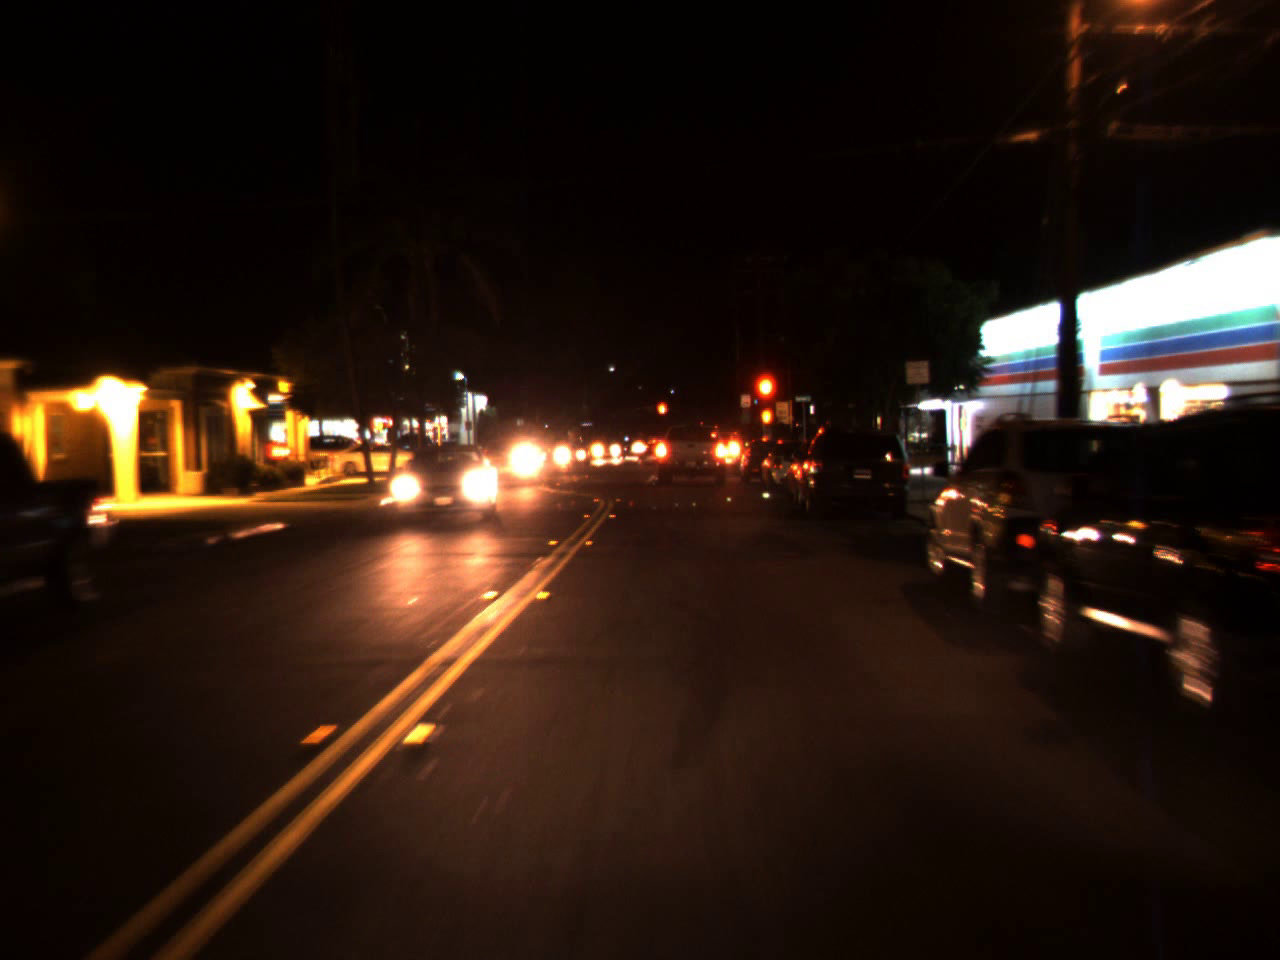stop: (751, 367, 781, 437), (655, 401, 668, 428)
